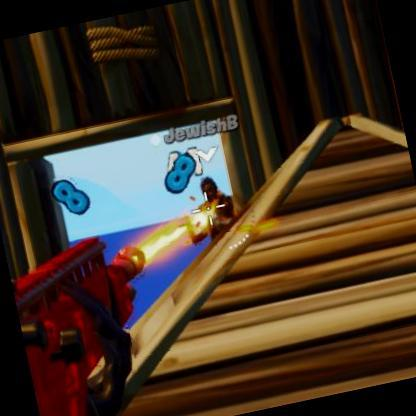person: (196, 180, 236, 244)
